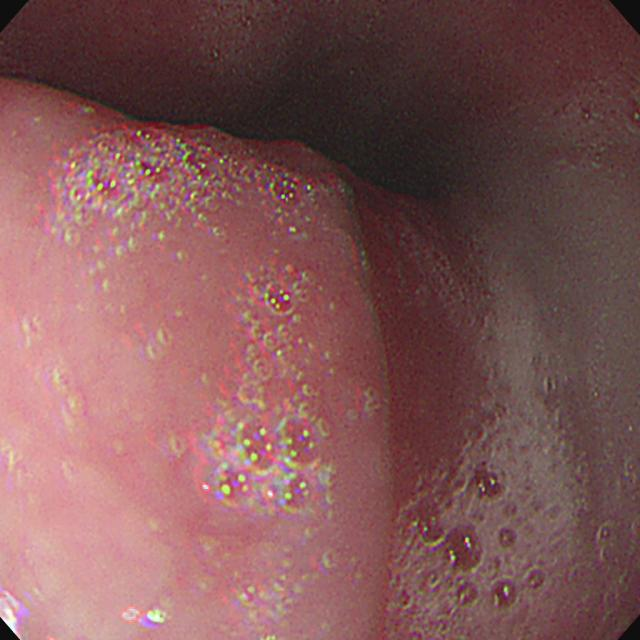T: (417, 239, 640, 636), (54, 128, 308, 249), (214, 266, 322, 516)
